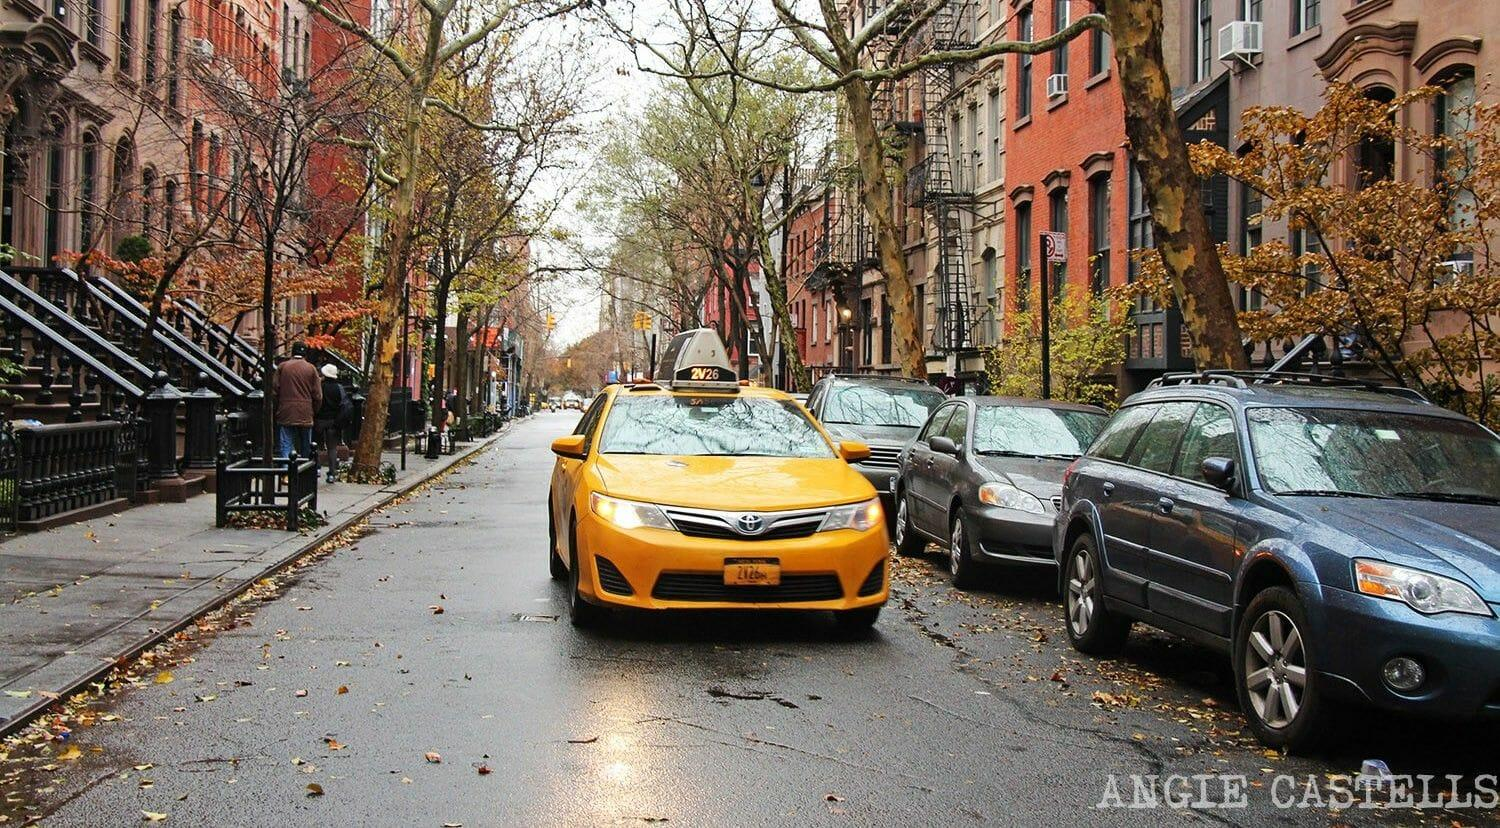taxi: (544, 329, 896, 665)
